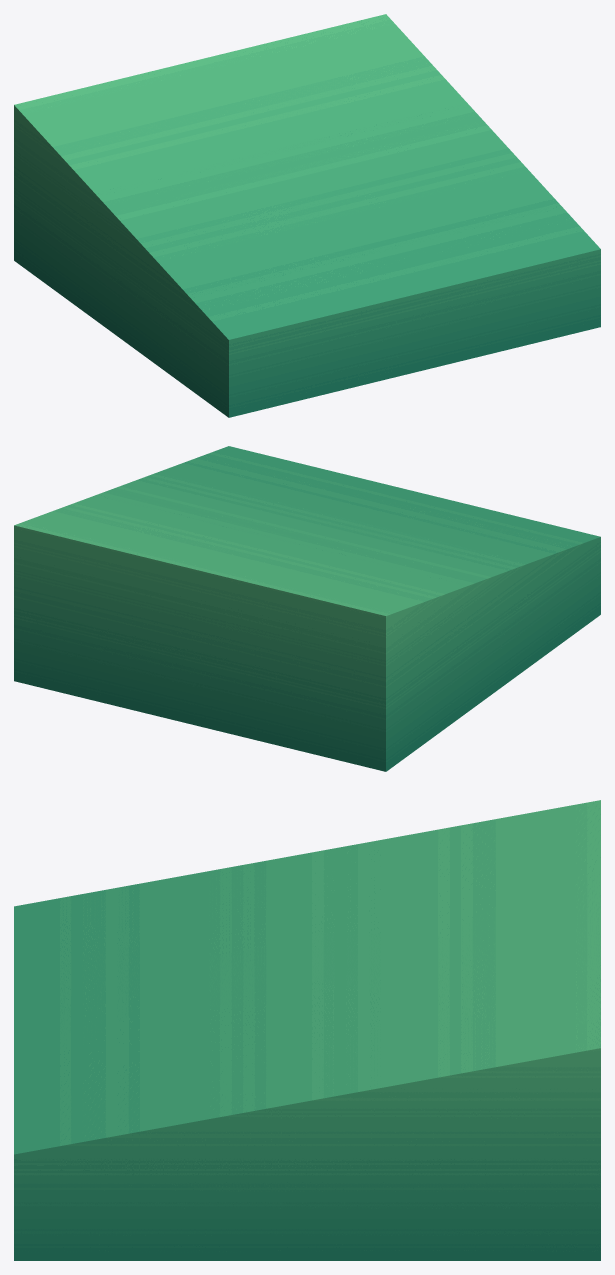
File: tower-defense-kit--tile-slope.glb
3 views of the same model, one above another, from view 1: azimuth 30°, elevation 25°; view 2: azimuth 150°, elevation 25°; view 3: azimuth 270°, elevation 25° (orthographic). The views are drawn at different scales.
Visible parts, largest first — view 1: tile-slope; view 2: tile-slope; view 3: tile-slope.
Part boxes in pixels (bbox=[...]): tile-slope: bbox=[14, 14, 600, 417]; tile-slope: bbox=[14, 446, 600, 771]; tile-slope: bbox=[14, 800, 600, 1260].
Bounding box in the file's own units: 1 × 0.4 × 1.
Materials: 1 (1 with a texture image).
